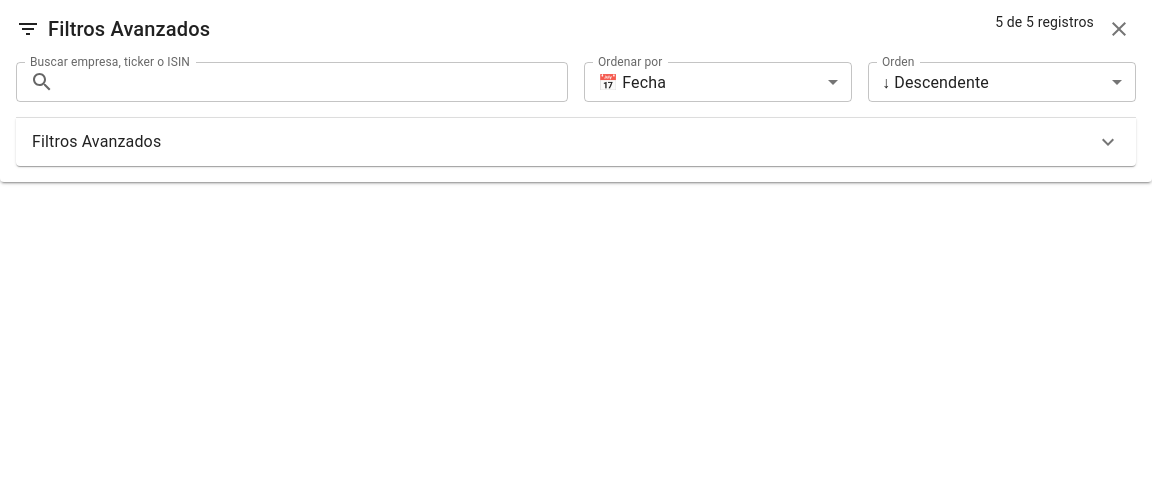
Test: AdvancedFilters › applies the amount range only when it is narrower than the data bounds
The width and height of the screenshot is (1152, 478).
Click the button "Filtros Avanzados": click(97, 142) [16,118,1136,166]
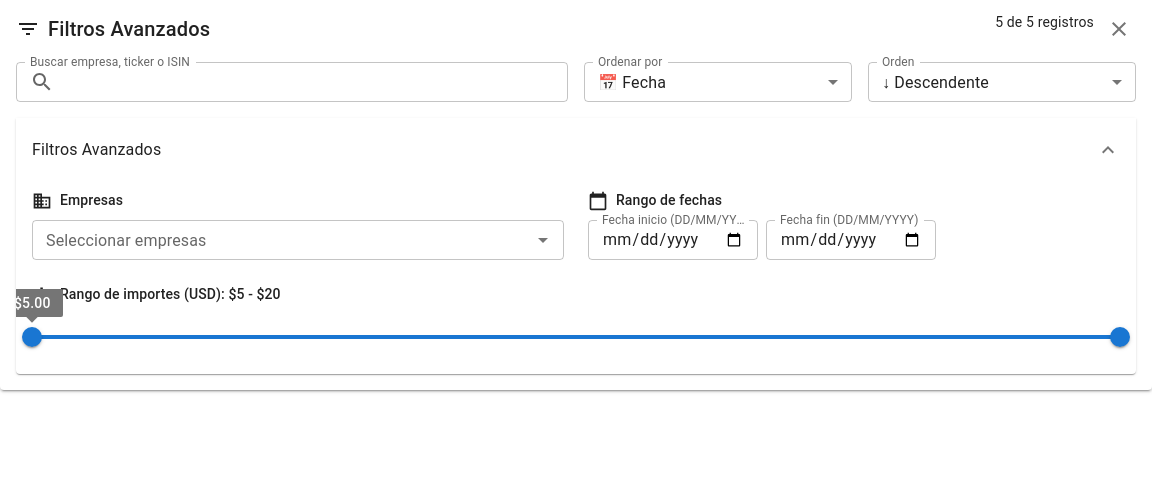
Check: the heading "Rango de importes (USD): $5 - $20" is shown, box [60,284,281,306]
Press Arrowright
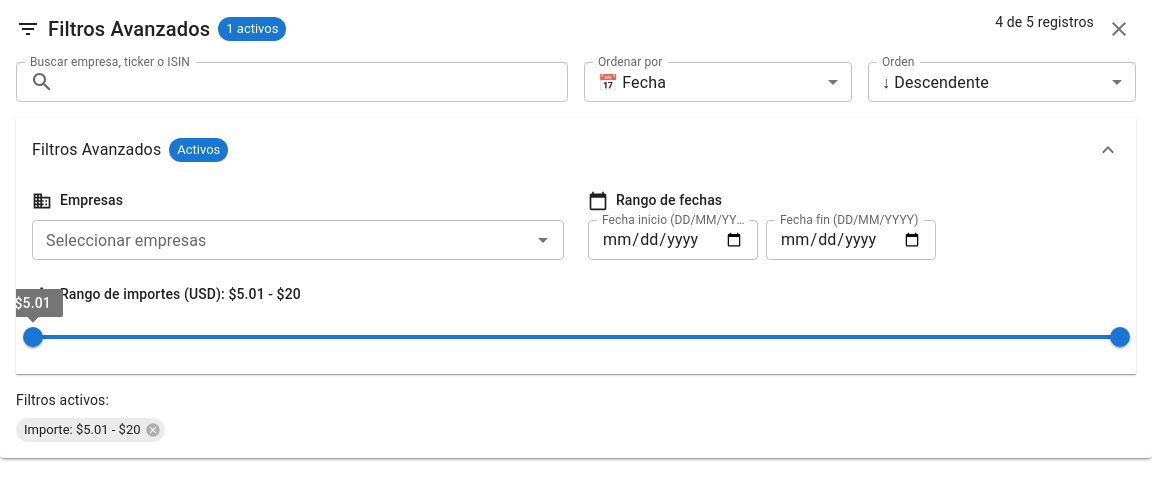
Check: the text "Importe: $5.01 - $20" is shown, box [16,420,148,440]
Check: the text "1 activos" is shown, box [226,21,278,36]
Press Arrowleft
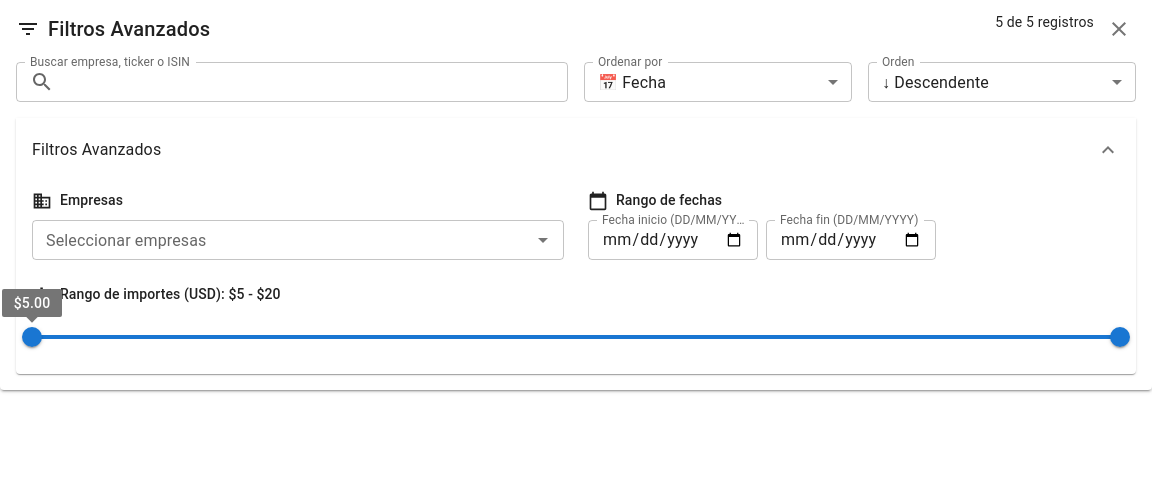
Check: the button "Importe:" is gone
